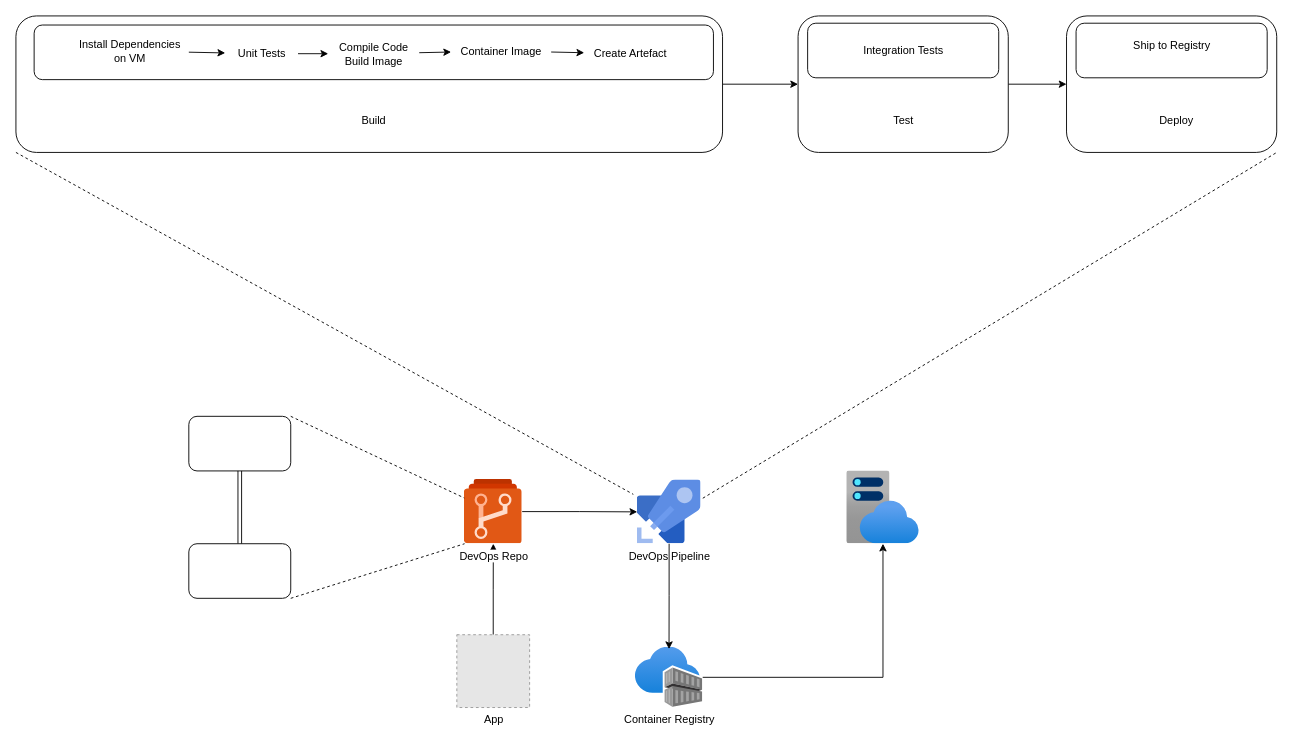
This 1294x743 diagram has some shape labels left out. Grey dashed boxes stand in for pictures. Here are the shapes that lost their labels. From the top down, the box of each, then its label:
(188, 415, 291, 471): Branching Policies
(846, 470, 919, 543): App Services
(188, 543, 291, 598): Linting
